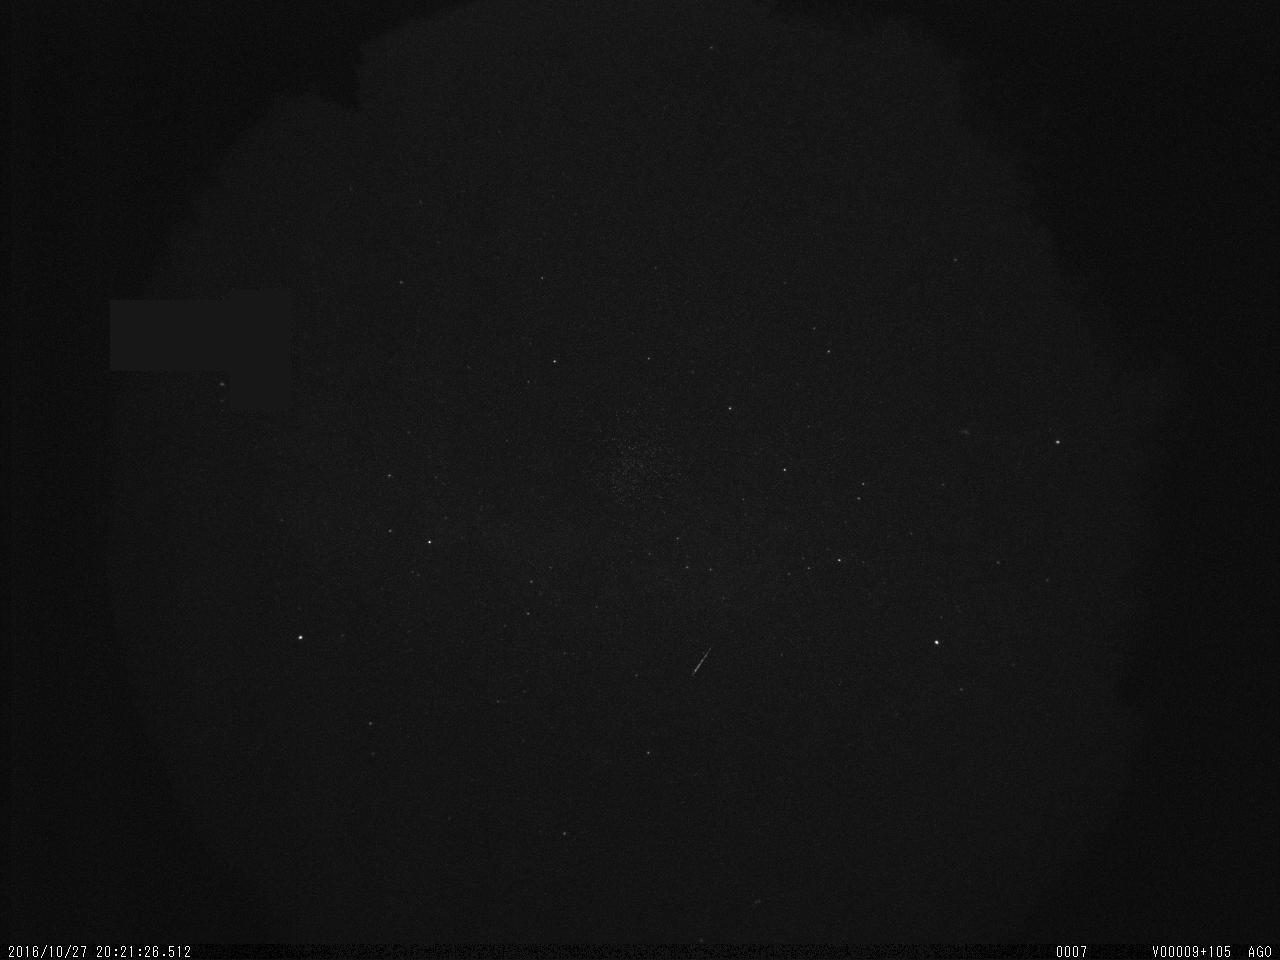meteor: (662, 609, 765, 696)
